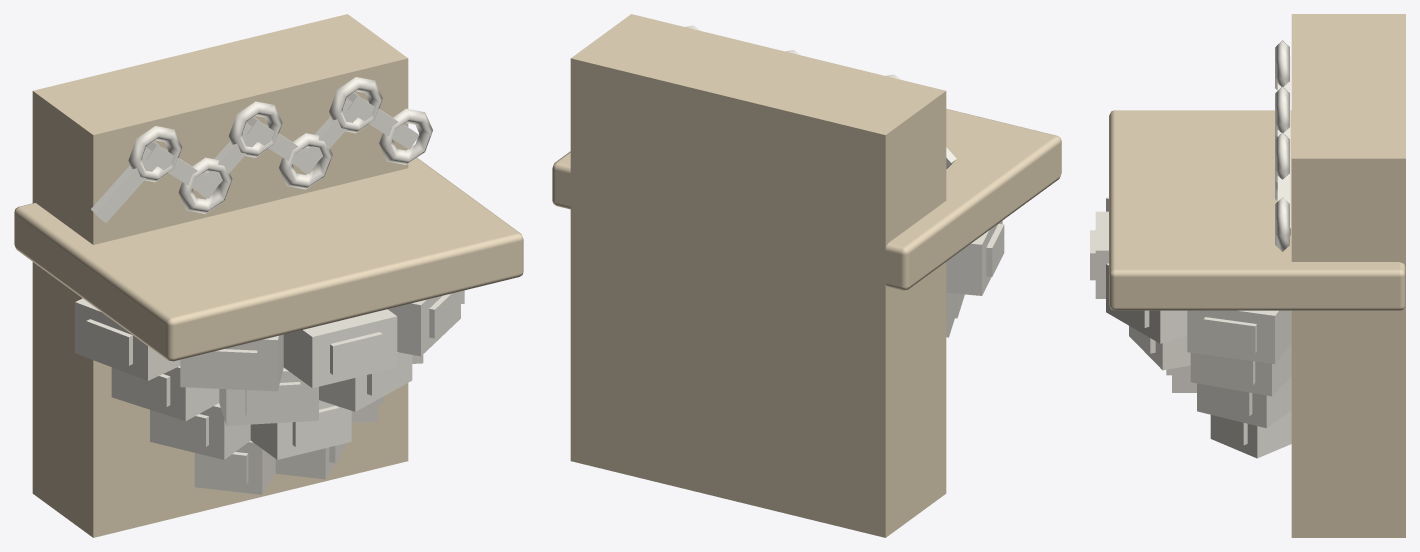
The model's file is muqarnas-corbel-bl-73902b20.glb.
3 renders of one model, left to right at view 1: azimuth 30°, elevation 25°; view 2: azimuth 150°, elevation 25°; view 3: azimuth 270°, elevation 25°, orthographic. The views are drawn at different scales.
Parts seen in each view (by area): view 1: muqarnas-corbel-block; view 2: muqarnas-corbel-block; view 3: muqarnas-corbel-block.
Boxes of the visible parts, x1=… form: muqarnas-corbel-block: x1=14, y1=14, x2=523, y2=537; muqarnas-corbel-block: x1=552, y1=14, x2=1061, y2=537; muqarnas-corbel-block: x1=1090, y1=14, x2=1405, y2=537.
Size of the model in its own units: 1.05 by 1.1 by 0.83.
